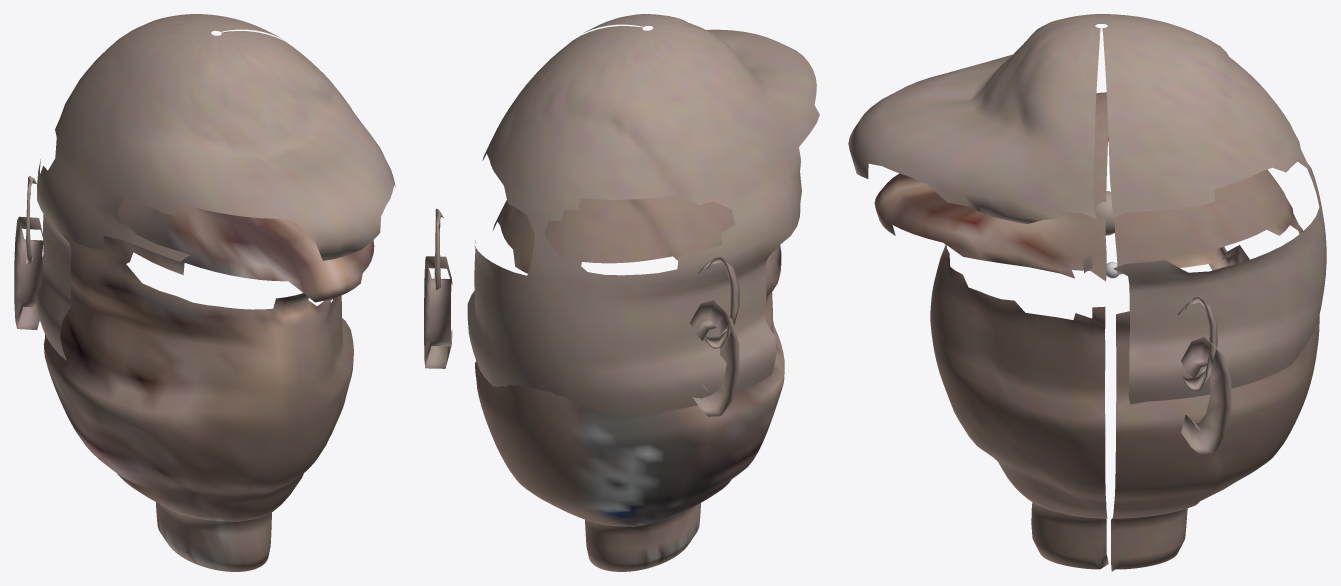
The model's file is avatar_v2_11bc3320.glb.
3 renders of one model, left to right at view 1: azimuth 30°, elevation 25°; view 2: azimuth 150°, elevation 25°; view 3: azimuth 270°, elevation 25°, orthographic.
Visible parts, largest first — view 1: world; view 2: world; view 3: world.
Part boxes in pixels (x1,y1,x2,y2): world: (14, 14, 395, 571); world: (424, 14, 819, 571); world: (848, 14, 1326, 571).
Size of the model in its own units: 0.1037 by 0.1581 by 0.1306.
